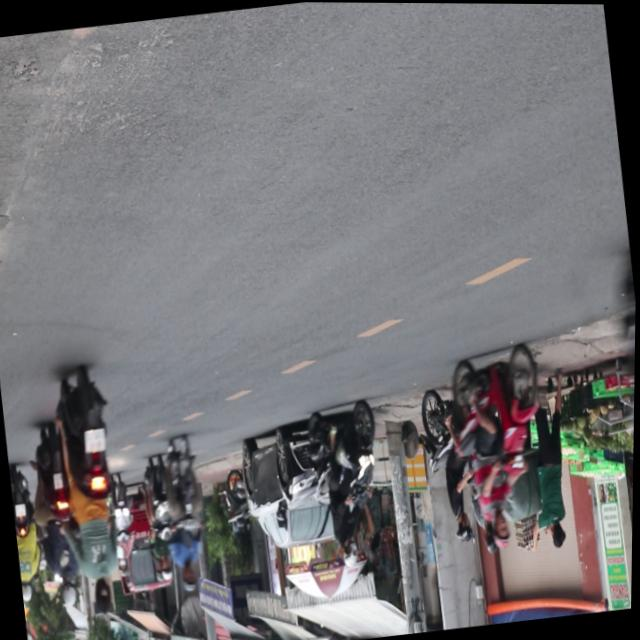helmet: (492, 510, 516, 550), (456, 513, 477, 545), (183, 564, 201, 594)
licenseplate: (439, 336, 564, 558), (48, 365, 136, 621), (157, 431, 218, 596)
motorcyclist: (94, 579, 118, 617)
nohelmet: (85, 428, 109, 453)
